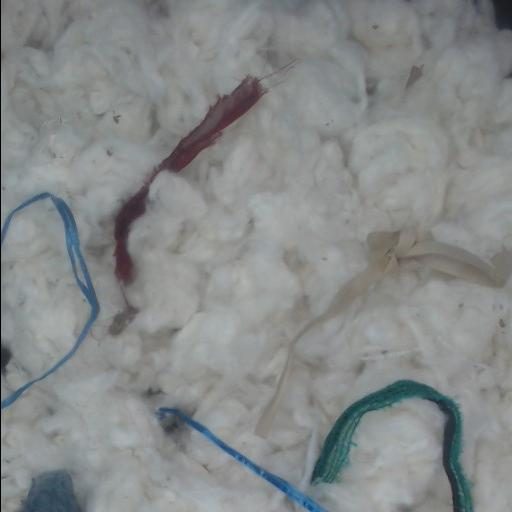cloth: (115, 77, 265, 279), (311, 380, 473, 511), (159, 407, 327, 511), (18, 470, 82, 511)
cotton: (1, 0, 512, 511)
thread: (256, 228, 512, 436), (1, 192, 99, 409)
